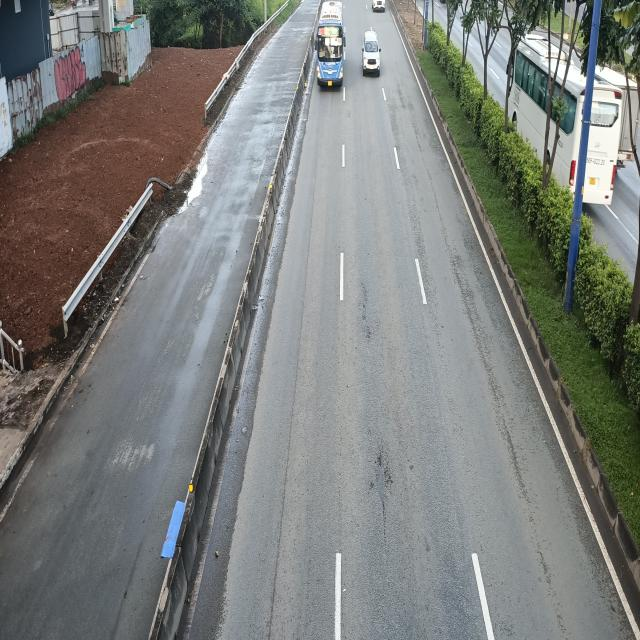car: (361, 31, 381, 76)
coach: (316, 0, 348, 86)
